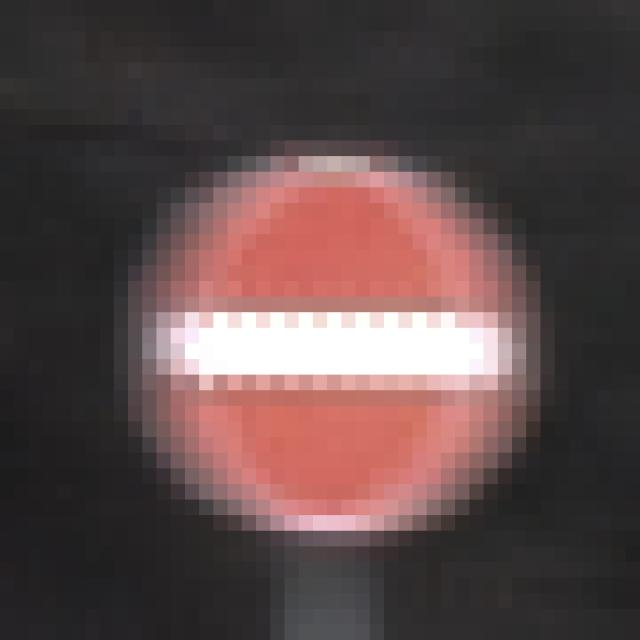No Entry: (86, 79, 570, 563)
